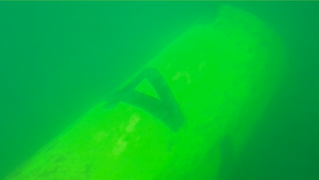4: (101, 66, 185, 133), (215, 134, 234, 180)
pipe: (1, 4, 290, 180)
